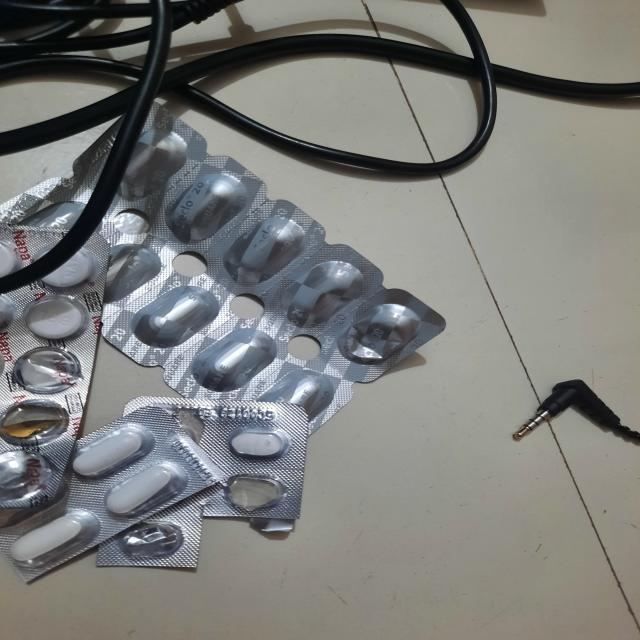Cable: (15, 0, 550, 175)
Medical Waste: (0, 145, 431, 570)
